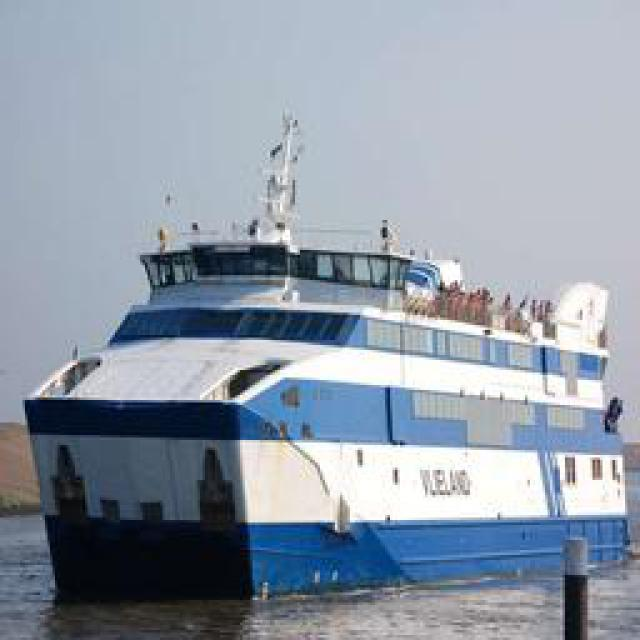Ship: (26, 158, 624, 606)
